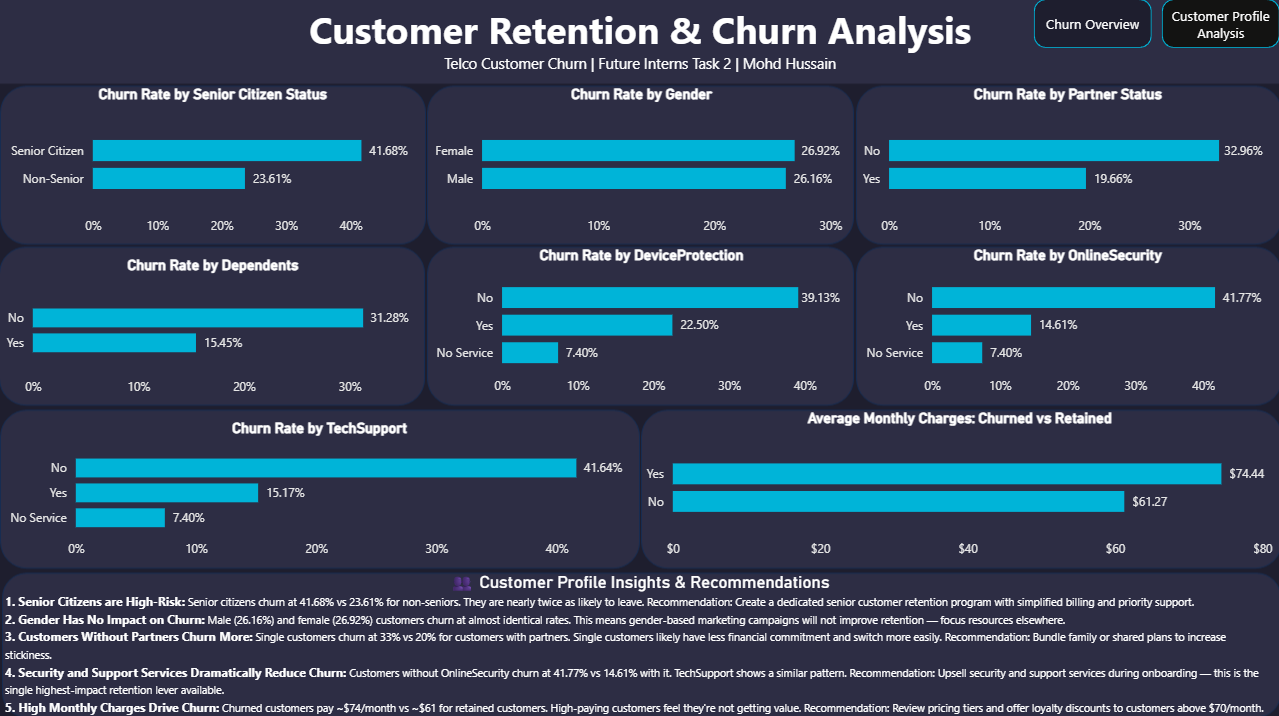

This screenshot's page, from the dashboard's own definition file:
{"tool":"powerbi","page":{"name":"Customer Profile Analysis","canvas":[1280,720],"ordinal":1},"visuals":[{"type":"textbox","box":[0,0,1280.3,83],"z":0},{"type":"clusteredBarChart","title":"Churn Rate by Gender","fields":{"Category":["WA_Fn-UseC_-Telco-Customer-Chur.gender"],"Y":["WA_Fn-UseC_-Telco-Customer-Chur.Churn Rate"]},"box":[425.9,85.7,430.7,159.3],"z":1000},{"type":"clusteredBarChart","title":"Churn Rate by Senior Citizen Status","fields":{"Y":["WA_Fn-UseC_-Telco-Customer-Chur.Churn Rate"],"Category":["WA_Fn-UseC_-Telco-Customer-Chur.Senior_Citizen_Label"]},"box":[0,85.7,425.9,159.3],"z":2000},{"type":"clusteredBarChart","title":"Churn Rate by Partner Status","fields":{"Y":["WA_Fn-UseC_-Telco-Customer-Chur.Churn Rate"],"Category":["WA_Fn-UseC_-Telco-Customer-Chur.Partner"]},"box":[856.6,85.7,423.5,159.3],"z":3000},{"type":"clusteredBarChart","title":"Churn Rate by Dependents","fields":{"Y":["WA_Fn-UseC_-Telco-Customer-Chur.Churn Rate"],"Category":["WA_Fn-UseC_-Telco-Customer-Chur.Dependents"]},"box":[0,257,425.9,148.4],"z":4000},{"type":"barChart","fields":{"Y":["WA_Fn-UseC_-Telco-Customer-Chur.Churn Rate"],"Category":["WA_Fn-UseC_-Telco-Customer-Chur.OnlineSecurity"]},"box":[856.6,247.3,423.5,158],"z":5000},{"type":"barChart","fields":{"Y":["WA_Fn-UseC_-Telco-Customer-Chur.Churn Rate"],"Category":["WA_Fn-UseC_-Telco-Customer-Chur.TechSupport"]},"box":[0,419.8,639.4,148.4],"z":5001},{"type":"barChart","fields":{"Y":["WA_Fn-UseC_-Telco-Customer-Chur.Churn Rate"],"Category":["WA_Fn-UseC_-Telco-Customer-Chur.DeviceProtection"]},"box":[425.9,247.3,430.7,158],"z":5002},{"type":"clusteredBarChart","title":"Average Monthly Charges: Churned vs Retained","fields":{"Category":["WA_Fn-UseC_-Telco-Customer-Chur.Churn"],"Y":["Avg(WA_Fn-UseC_-Telco-Customer-Chur.MonthlyCharges)"]},"box":[639.4,410.2,639.4,158],"z":5003},{"type":"textbox","title":"👥 Customer Profile Insights & Recommendations","box":[0,568.2,1278.8,152],"z":5004},{"type":"pageNavigator","box":[1033.9,0,246,49.5],"z":5005}]}

Visuals, with their boxes in screenshot pixels (x1, y1, x2, y2), scaled from the page's 1280x720 canvas onto the 1279x716 screenshot:
textbox: [left=0, top=0, right=1278, bottom=83]
"Churn Rate by Gender" clusteredBarChart: [left=426, top=85, right=856, bottom=244]
"Churn Rate by Senior Citizen Status" clusteredBarChart: [left=0, top=85, right=426, bottom=244]
"Churn Rate by Partner Status" clusteredBarChart: [left=856, top=85, right=1278, bottom=244]
"Churn Rate by Dependents" clusteredBarChart: [left=0, top=256, right=426, bottom=403]
barChart - WA_Fn-UseC_-Telco-Customer-Chur.Churn Rate x WA_Fn-UseC_-Telco-Customer-Chur.OnlineSecurity: [left=856, top=246, right=1278, bottom=403]
barChart - WA_Fn-UseC_-Telco-Customer-Chur.Churn Rate x WA_Fn-UseC_-Telco-Customer-Chur.TechSupport: [left=0, top=417, right=639, bottom=565]
barChart - WA_Fn-UseC_-Telco-Customer-Chur.Churn Rate x WA_Fn-UseC_-Telco-Customer-Chur.DeviceProtection: [left=426, top=246, right=856, bottom=403]
"Average Monthly Charges: Churned vs Retained" clusteredBarChart: [left=639, top=408, right=1278, bottom=565]
"👥 Customer Profile Insights & Recommendations" textbox: [left=0, top=565, right=1278, bottom=715]
pageNavigator: [left=1033, top=0, right=1278, bottom=49]
